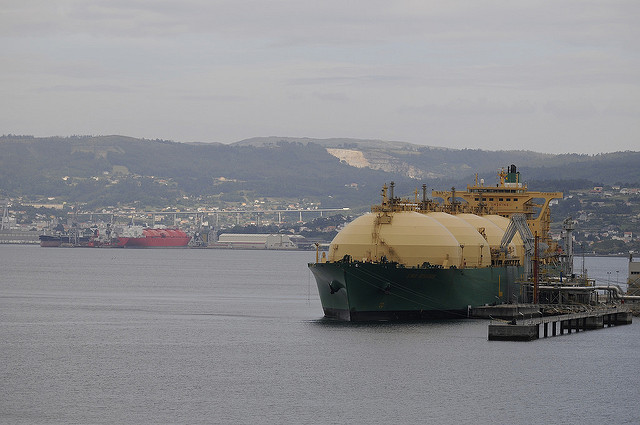LNG_ship: (302, 161, 560, 316), (117, 224, 201, 250)
